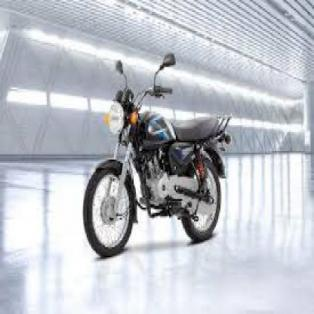Motocicleta: (76, 52, 230, 264)
